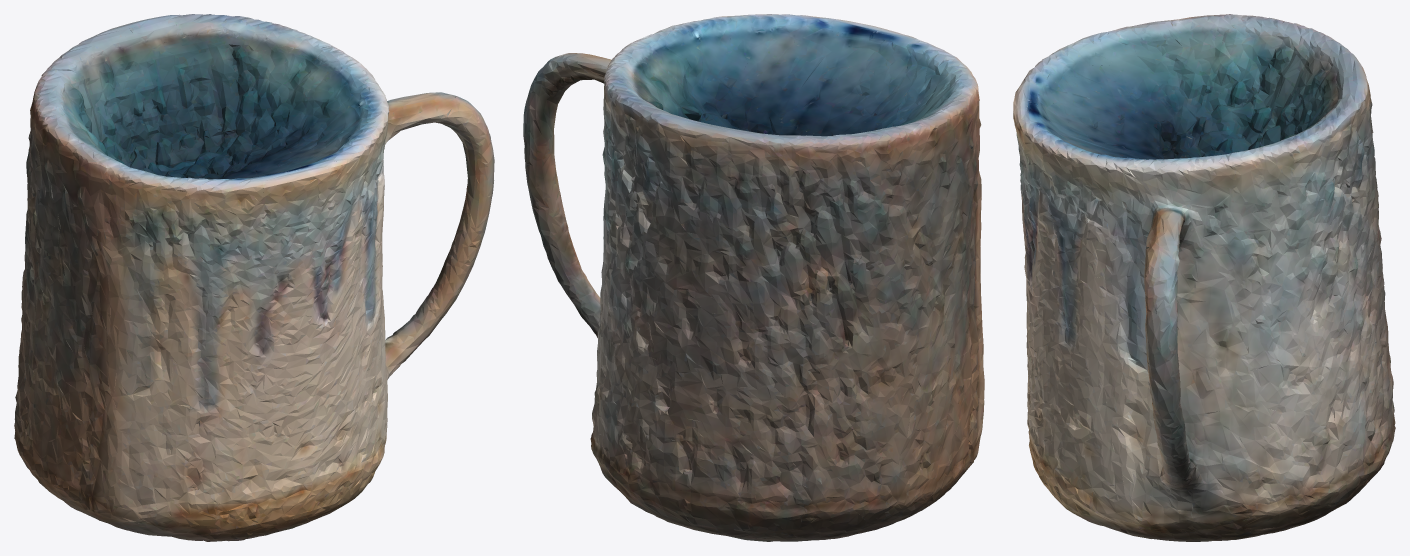
Rendered from product-8-ceramic-mug.glb.
3 views of the same model, side by side, from view 1: azimuth 30°, elevation 25°; view 2: azimuth 150°, elevation 25°; view 3: azimuth 270°, elevation 25° (orthographic). The views are drawn at different scales.
Parts seen in each view (by area): view 1: mesh.glb; view 2: mesh.glb; view 3: mesh.glb.
Part boxes in pixels (bbox=[...]): mesh.glb: bbox=[14, 14, 494, 541]; mesh.glb: bbox=[523, 14, 984, 541]; mesh.glb: bbox=[1013, 14, 1395, 541].
Size of the model in its own units: 0.9883 by 0.9171 by 0.754.
Materials: 1 (1 with a texture image).
